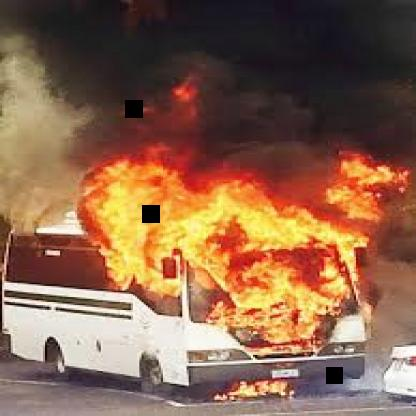fire: (76, 108, 416, 372)
